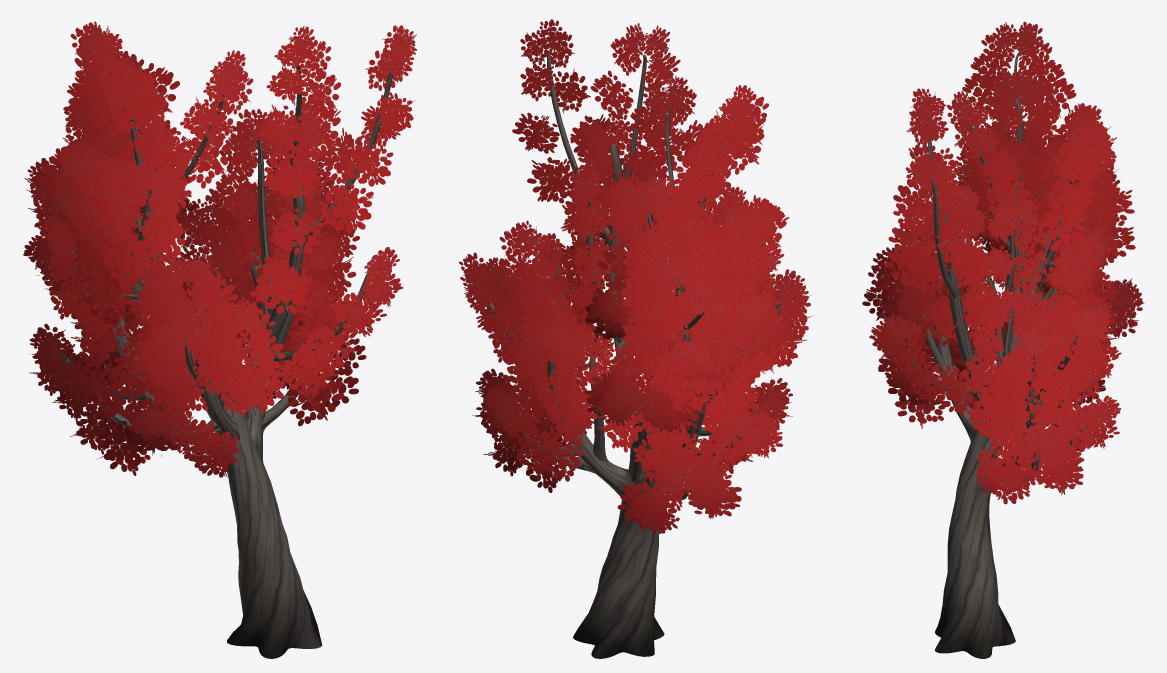
Rendered from tree_twisted_2.glb.
3 views of the same model, side by side, from view 1: azimuth 30°, elevation 25°; view 2: azimuth 150°, elevation 25°; view 3: azimuth 270°, elevation 25° (orthographic). The views are drawn at different scales.
Visible parts, largest first — view 1: TwistedTree_2; view 2: TwistedTree_2; view 3: TwistedTree_2.
Boxes of the visible parts, x1,y1,x2,y2 form: TwistedTree_2: (23, 21, 416, 658); TwistedTree_2: (459, 19, 814, 658); TwistedTree_2: (862, 21, 1144, 658).
Bounding box in the file's own units: 10.56 × 18.95 × 9.2.
Materials: 2 (2 with a texture image).
